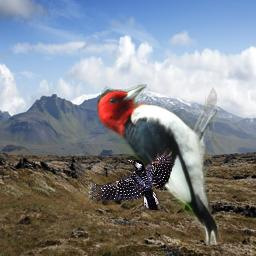Woodpecker: (97, 84, 217, 245), (88, 148, 172, 210)
